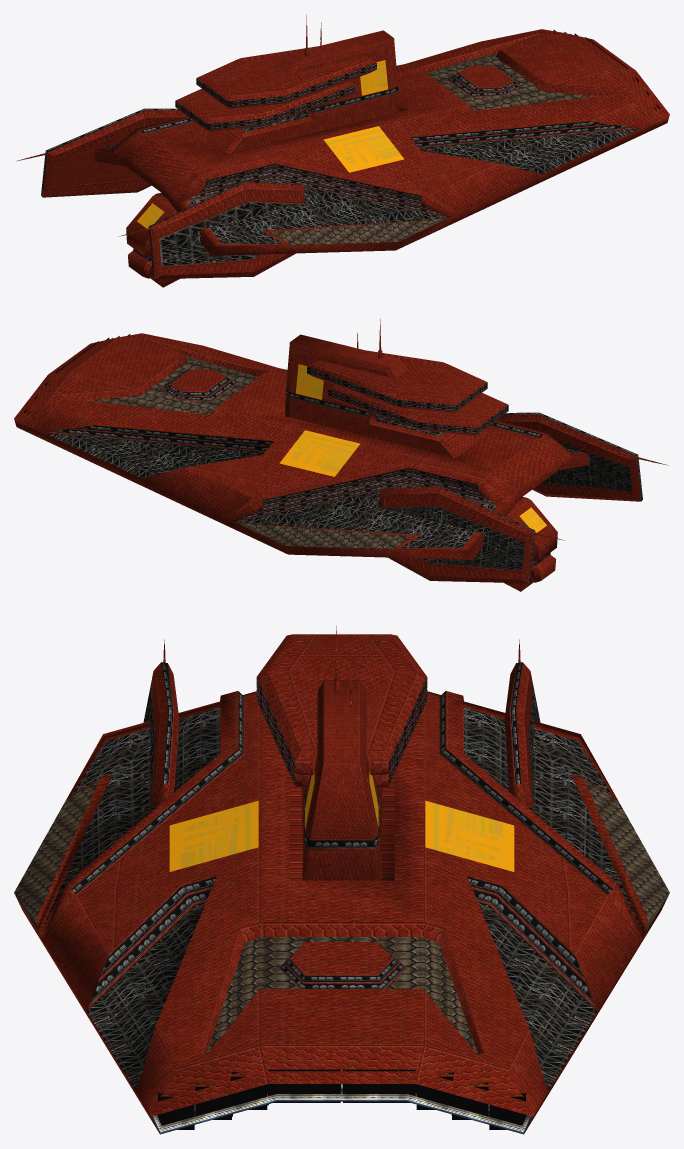
The model's file is pvc03.obj.
3 renders of one model, top to bottom at view 1: azimuth 30°, elevation 25°; view 2: azimuth 150°, elevation 25°; view 3: azimuth 270°, elevation 25°, orthographic. The views are drawn at different scales.
Visible parts, largest first — view 1: PVC030, DECAL0; view 2: PVC030, DECAL0; view 3: PVC030, DECAL0, BACK0.
Boxes of the visible parts, left/top/right/bottom form: PVC030: left=16, top=15, right=669, bottom=287; DECAL0: left=137, top=60, right=404, bottom=228; PVC030: left=14, top=319, right=668, bottom=591; DECAL0: left=279, top=364, right=546, bottom=532; PVC030: left=14, top=626, right=669, bottom=1134; DECAL0: left=169, top=771, right=514, bottom=871; BACK0: left=158, top=1069, right=525, bottom=1129.
Size of the model in its own units: 2091 by 854 by 1253.
10 materials, 7 textured.
